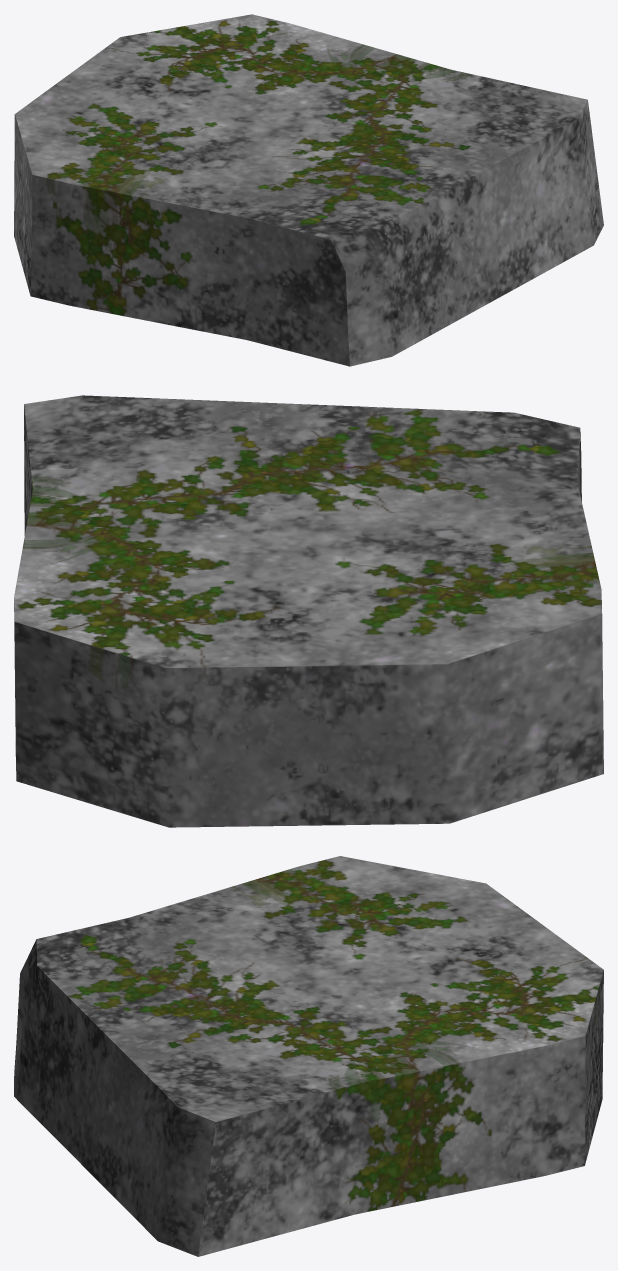
The model's file is GraveBroken_Top.fbx.
The picture shows the model from 3 angles, top to bottom: view 1: azimuth 30°, elevation 25°; view 2: azimuth 150°, elevation 25°; view 3: azimuth 270°, elevation 25°; orthographic projection. The views are drawn at different scales.
Visible parts, largest first — view 1: GraveBroken_Top; view 2: GraveBroken_Top; view 3: GraveBroken_Top.
Part boxes in pixels (x1=…): GraveBroken_Top: x1=14, y1=14, x2=603, y2=366; GraveBroken_Top: x1=14, y1=395, x2=603, y2=827; GraveBroken_Top: x1=14, y1=856, x2=603, y2=1256.
Bounding box in the file's own units: 68.46 × 16.2 × 64.02.
